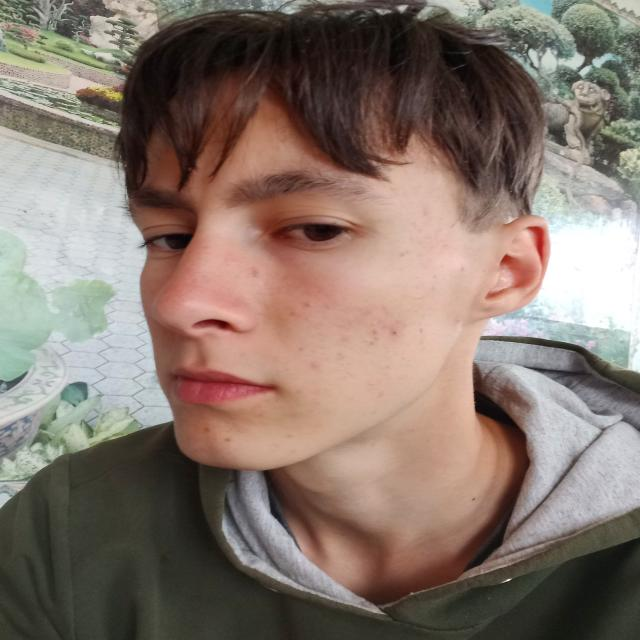Acne: (248, 266, 261, 280)
Blackheads: (360, 308, 406, 348), (415, 212, 449, 254), (294, 347, 320, 371), (414, 316, 428, 356), (331, 334, 352, 358), (287, 301, 314, 319), (415, 273, 439, 290), (397, 354, 418, 365), (397, 248, 410, 258)
